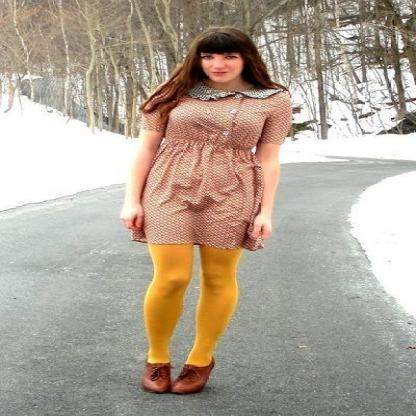dress: (126, 79, 300, 257)
shoe: (138, 356, 214, 394)
